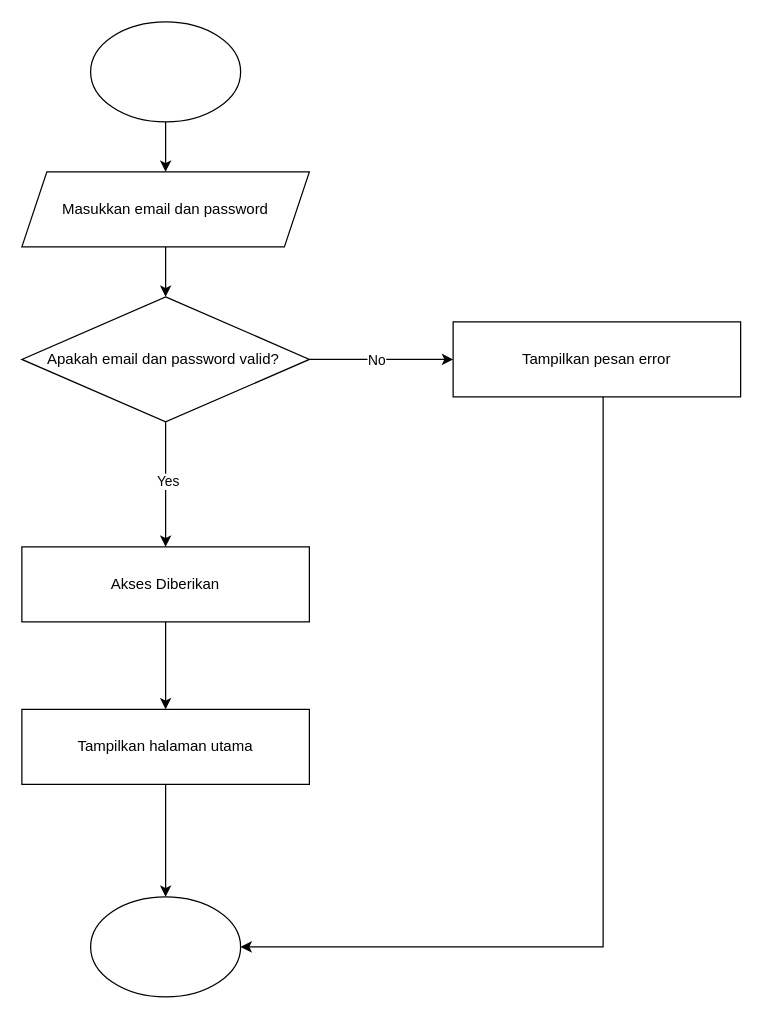
This 763x1019 diagram has some shape labels left out. The box of each missing label's shape, as (x1, y1, x2, y2) in pixels:
End: (89, 896, 241, 997)
Start: (89, 21, 241, 122)
